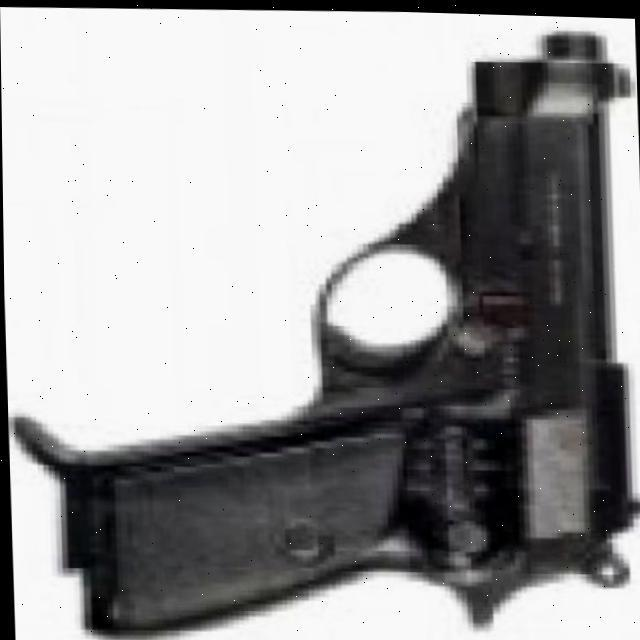gun: (34, 16, 640, 640)
